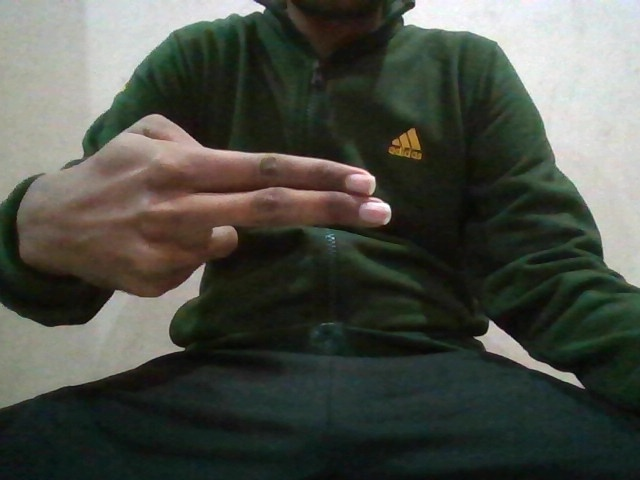H: (20, 115, 393, 312)
